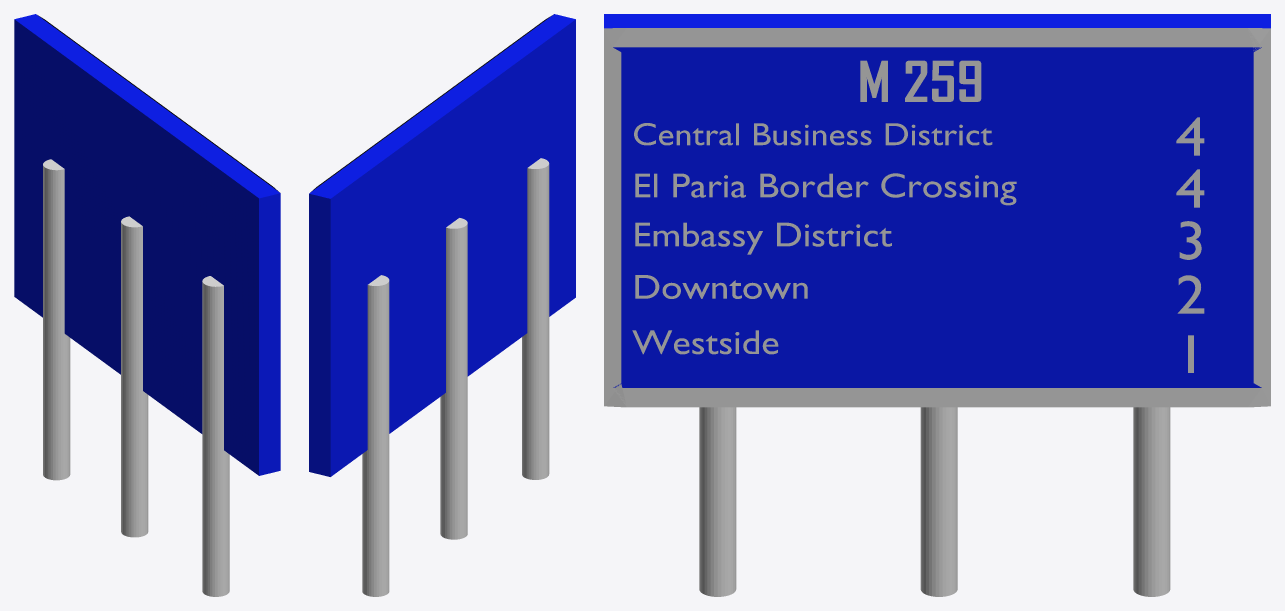
File: UK_distance_sign_2.fbx
3 renders of one model, left to right at view 1: azimuth 30°, elevation 25°; view 2: azimuth 150°, elevation 25°; view 3: azimuth 270°, elevation 25°, orthographic. The views are drawn at different scales.
Parts seen in each view (by area): view 1: Cube.001, Cylinder, Cylinder.001, Cylinder.002; view 2: Cube.001, Cylinder.001, Cylinder, Cylinder.002; view 3: Cube.001, Cylinder, Cylinder.001, Cylinder.002, Text.008, Text.009, Text, Text.004, Text.011, Text.005.
Part boxes in pixels (<box>): Cube.001: <box>14,14,280,475</box>; Cylinder: <box>202,276,229,596</box>; Cylinder.001: <box>43,159,70,480</box>; Cylinder.002: <box>121,216,148,537</box>; Cube.001: <box>309,14,575,476</box>; Cylinder.001: <box>362,275,389,596</box>; Cylinder: <box>522,158,549,479</box>; Cylinder.002: <box>440,218,467,539</box>; Cube.001: <box>604,14,1270,407</box>; Cylinder: <box>699,407,736,596</box>; Cylinder.001: <box>1133,407,1170,596</box>; Cylinder.002: <box>920,407,957,596</box>; Text.008: <box>635,173,1016,205</box>; Text.009: <box>634,123,992,145</box>; Text: <box>860,60,981,101</box>; Text.004: <box>635,222,891,254</box>; Text.011: <box>635,275,807,298</box>; Text.005: <box>632,330,778,354</box>.
Size of the model in its own units: 6.34 by 68.74 by 72.02.
